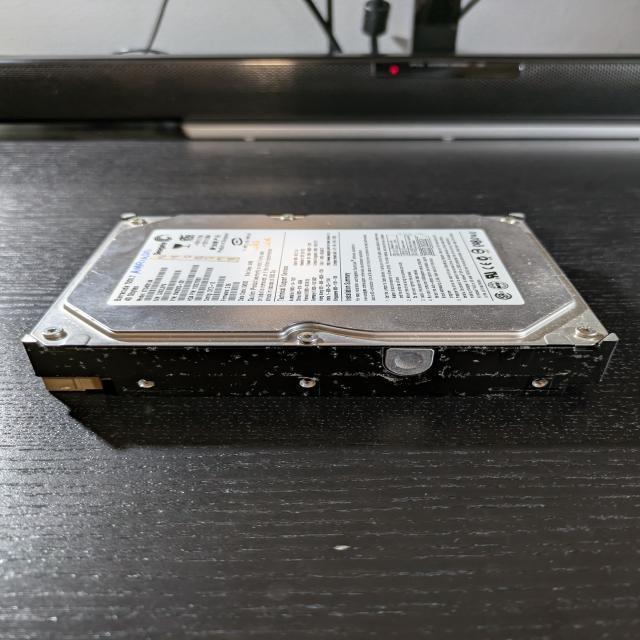DISK: (22, 211, 620, 397)
